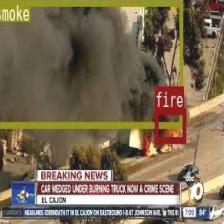fire: (154, 107, 185, 141)
smoke: (0, 0, 182, 126)
